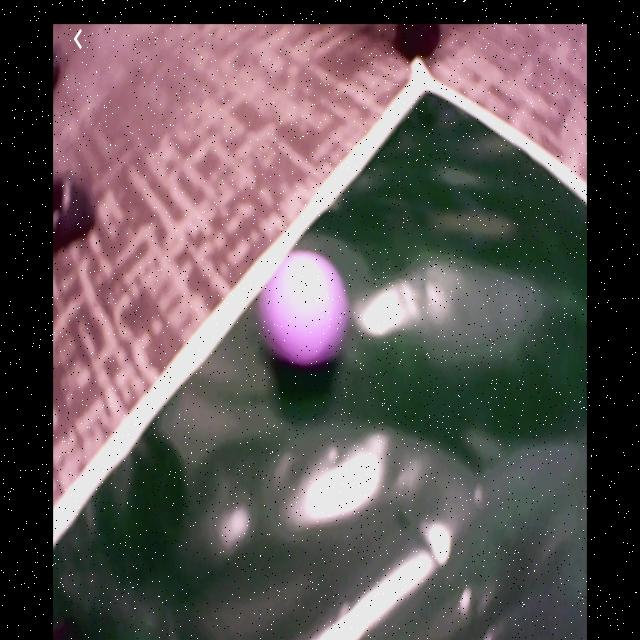ball: (265, 252, 340, 365)
